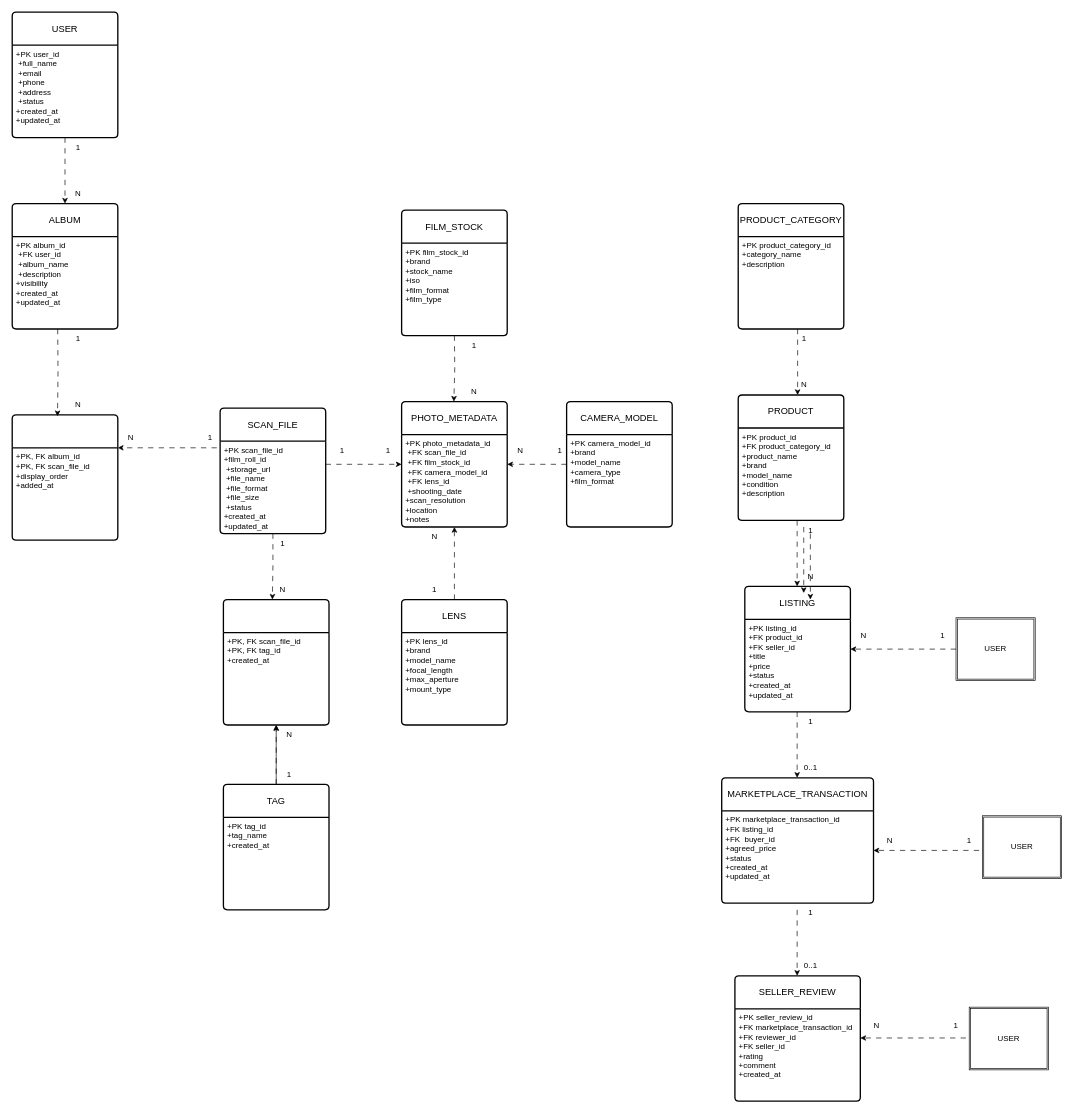
This 1073x1113 diagram has some shape labels left out. Each missing label, with the box of its shape:
ALBUM_PHOTO: (11, 414, 118, 541)
PHOTO_TAG: (222, 599, 329, 725)
